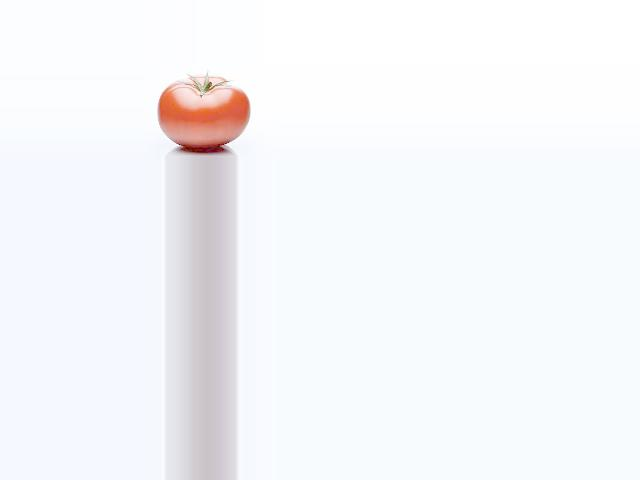tomato: (157, 75, 250, 147)
